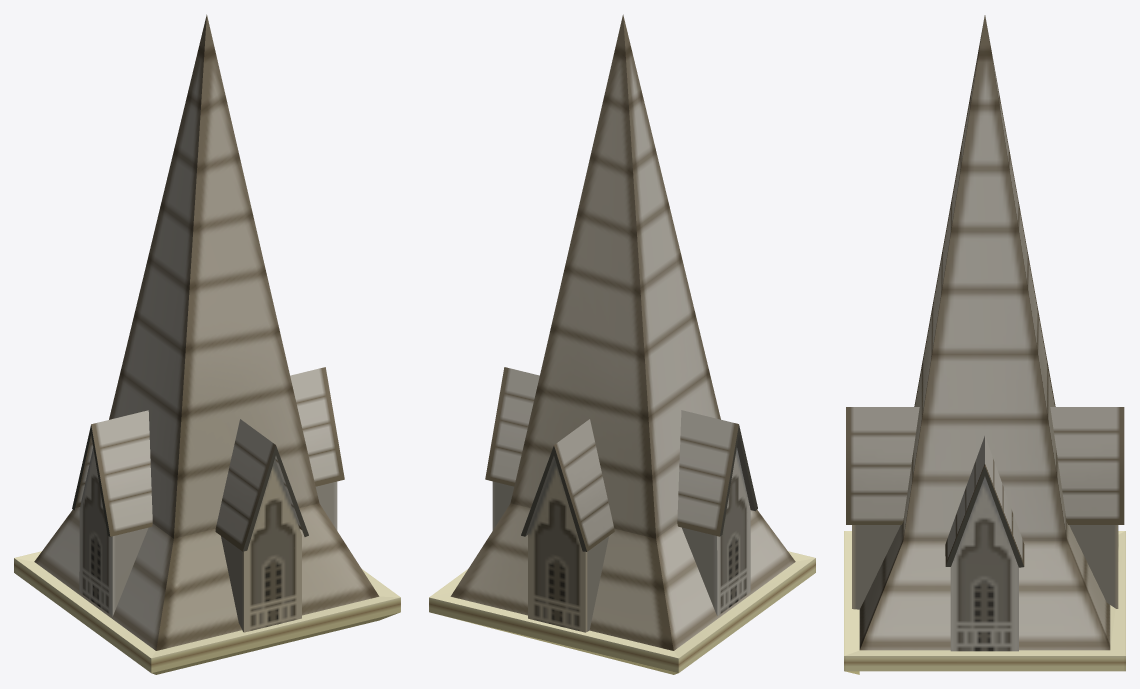
File: ngoiMaiTrang.glb
The picture shows the model from 3 angles, left to right: view 1: azimuth 30°, elevation 25°; view 2: azimuth 150°, elevation 25°; view 3: azimuth 270°, elevation 25°; orthographic projection. The views are drawn at different scales.
Visible parts, largest first — view 1: Object_4.001; view 2: Object_4.001; view 3: Object_4.001.
Part boxes in pixels (box(x1,y1,x2,y2)): Object_4.001: box(14, 14, 400, 674); Object_4.001: box(429, 14, 815, 674); Object_4.001: box(844, 15, 1125, 674).
Size of the model in its own units: 0.2417 by 0.5446 by 0.2299.
1 material, 1 textured.
